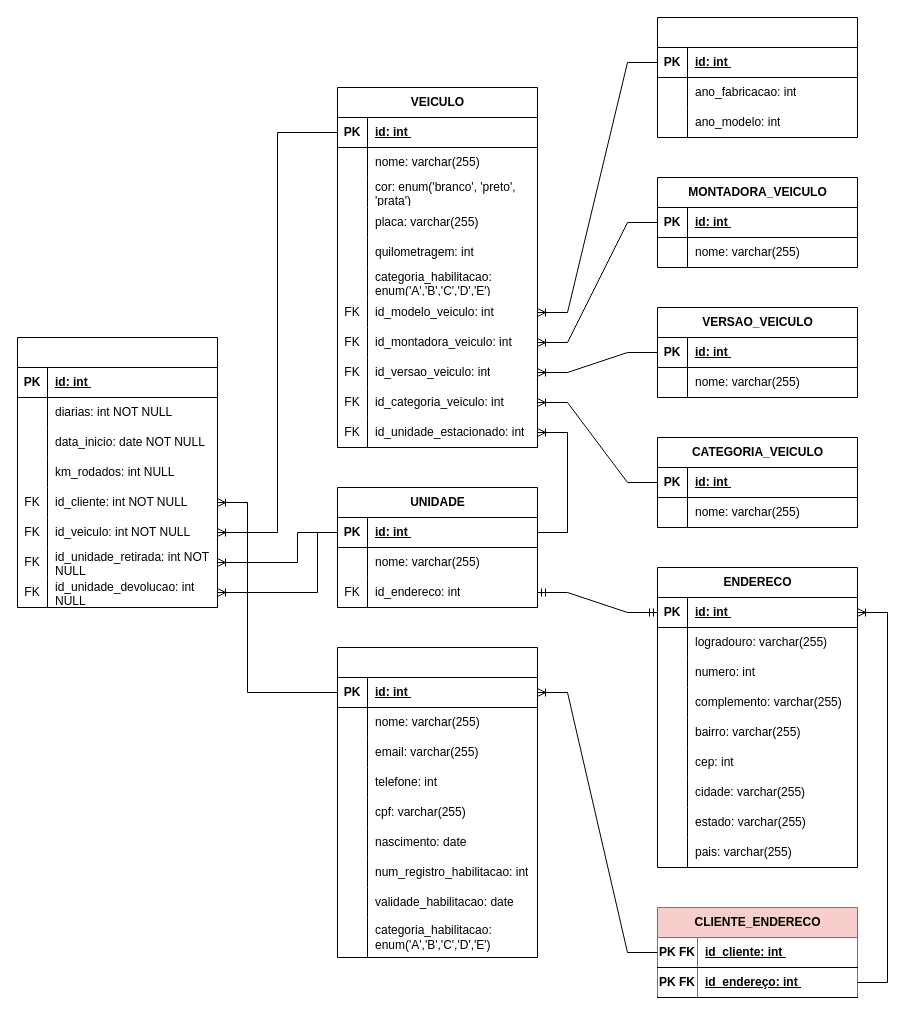
Some shapes in this 913 by 1015 pixel diagram are drawn without their labels. The shapes that lost their labels are listed below. From the top down, each one's box as (x1, y1, x2, y2) in pixels, then its label:
(656, 16, 858, 138): MODELO_VEICULO
(16, 336, 218, 608): LOCACAO
(336, 646, 538, 958): CLIENTE
